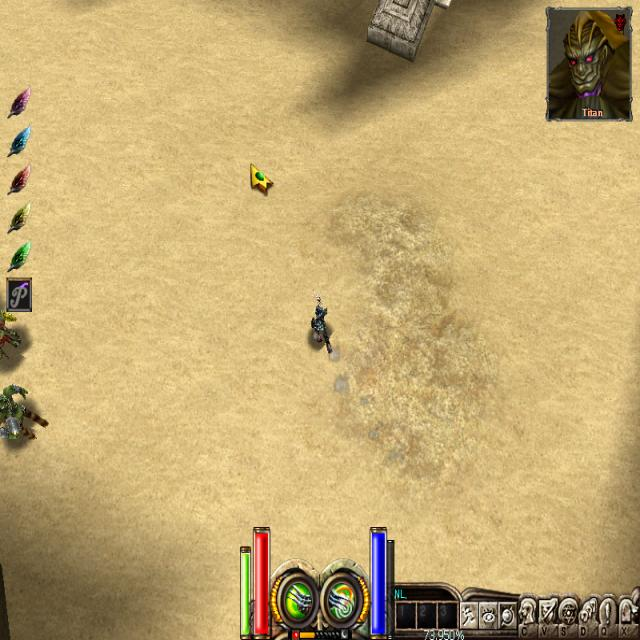monster: (1, 364, 57, 480)
